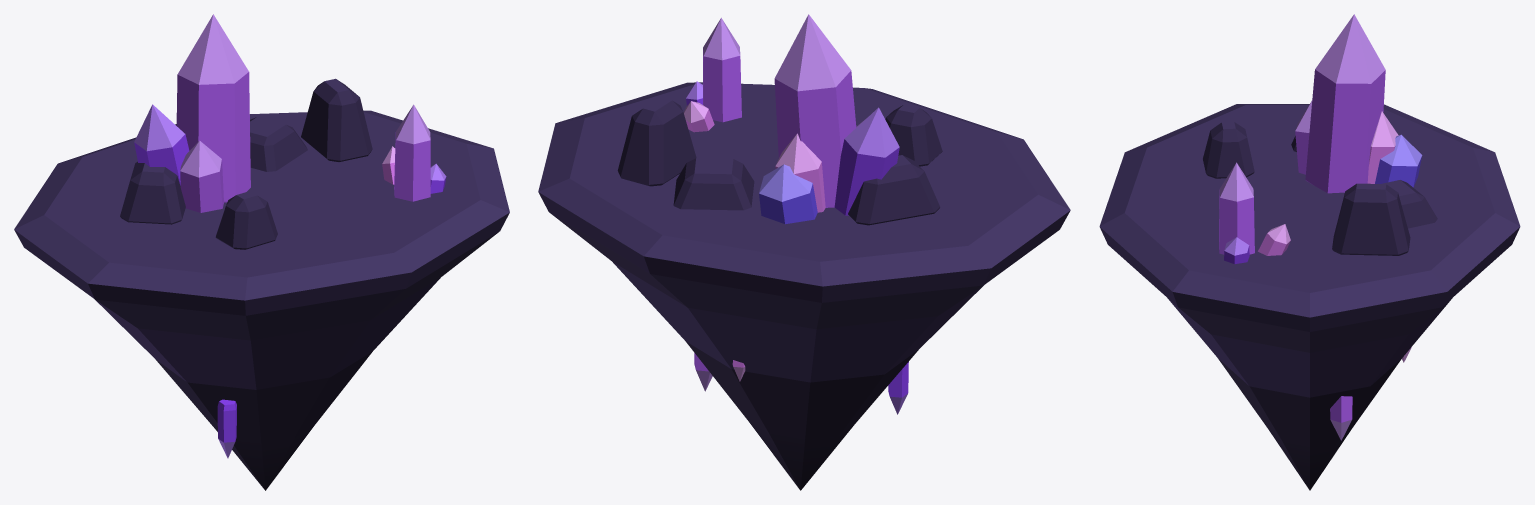
Rendered from void_rock_float.glb.
3 renders of one model, left to right at view 1: azimuth 30°, elevation 25°; view 2: azimuth 150°, elevation 25°; view 3: azimuth 270°, elevation 25°, orthographic. The views are drawn at different scales.
Visible parts, largest first — view 1: Body, Glow; view 2: Body, Glow; view 3: Body, Glow.
Boxes of the visible parts, box(x1,y1,x2,y2) form: Body: box(14, 78, 509, 490); Glow: box(134, 14, 446, 458); Body: box(538, 82, 1070, 490); Glow: box(683, 14, 908, 414); Body: box(1099, 104, 1520, 490); Glow: box(1219, 14, 1422, 440).
Bounding box in the file's own units: 4.85 × 4.89 × 4.04.
